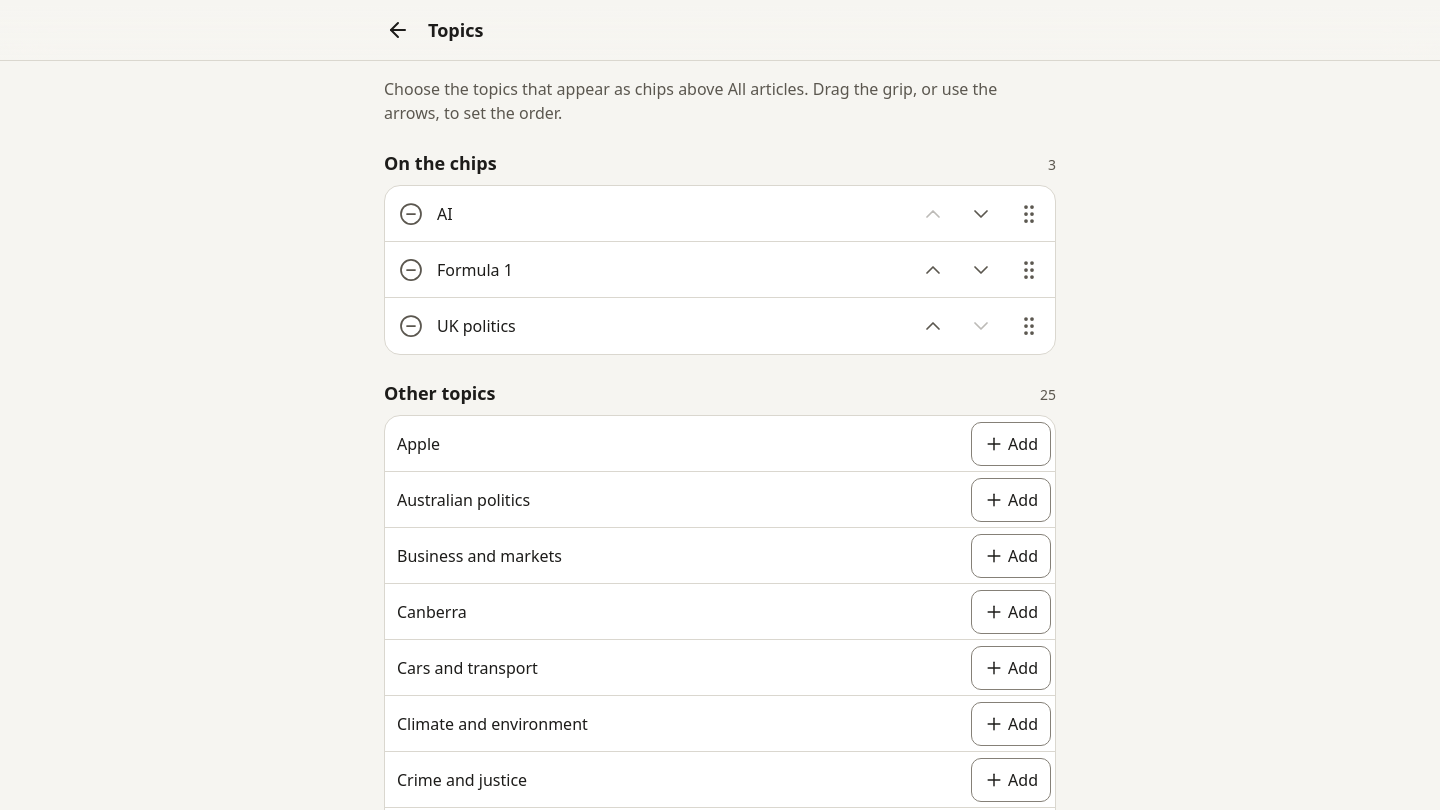
Test: AC6: saving and failure › a failed save puts the chips back and says so with a toast and in the live region
expect the list named "On the chips" is shown: met, box [384,185,1056,355]
Click the button named "Move AI down": (981, 214) [959,192,1003,236]
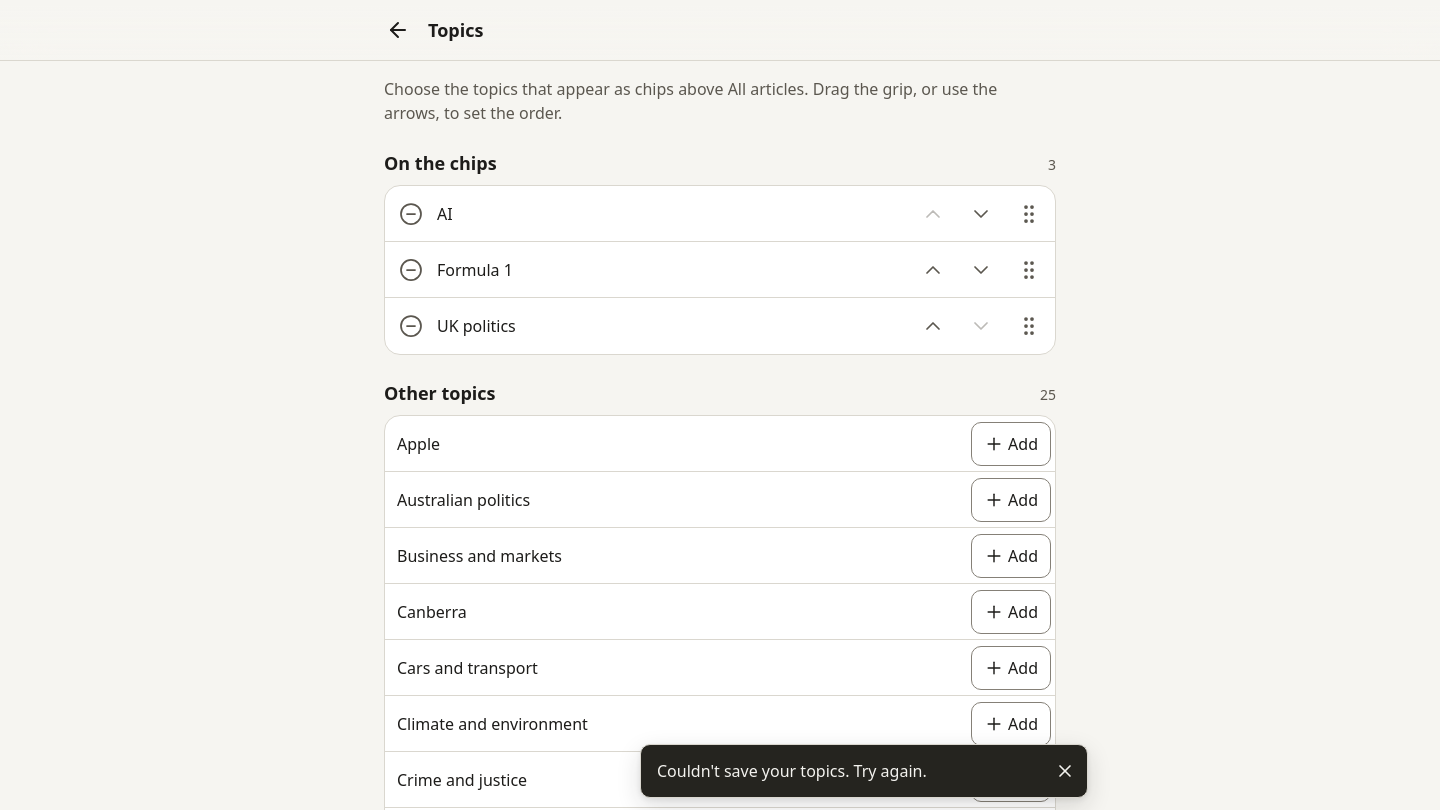
expect the text "Couldn't save your topics. Try again." is shown: met, box [657,760,927,782]
